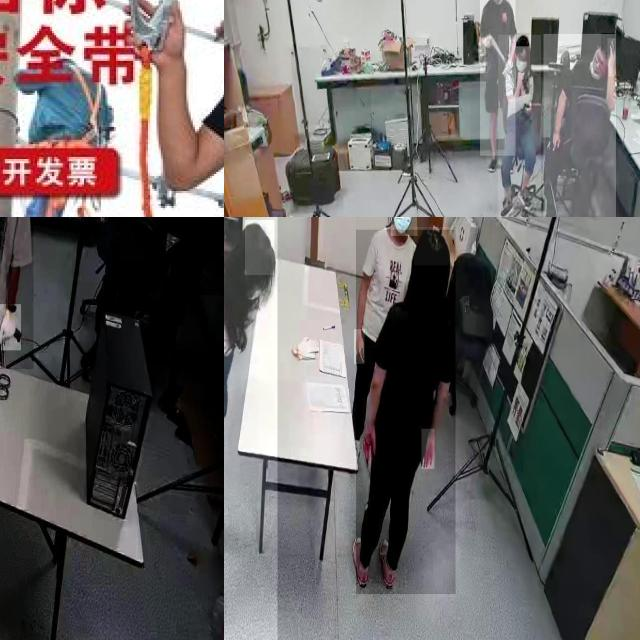face_mask: (514, 46, 530, 80), (390, 217, 417, 235)
hand_glove: (0, 304, 21, 351)
hand_noglove: (361, 424, 377, 466), (421, 428, 435, 469), (354, 329, 365, 365), (546, 129, 561, 153), (608, 38, 616, 78), (516, 68, 524, 90), (97, 217, 109, 223)
head_nohelmet: (245, 220, 275, 276), (414, 227, 450, 266), (601, 33, 616, 55), (516, 33, 530, 47)
person: (356, 230, 456, 595), (224, 217, 278, 640), (355, 217, 416, 451), (543, 34, 616, 217), (498, 34, 541, 217), (480, 0, 516, 156), (163, 217, 224, 296)
shoes: (351, 530, 372, 596), (376, 527, 396, 594)
